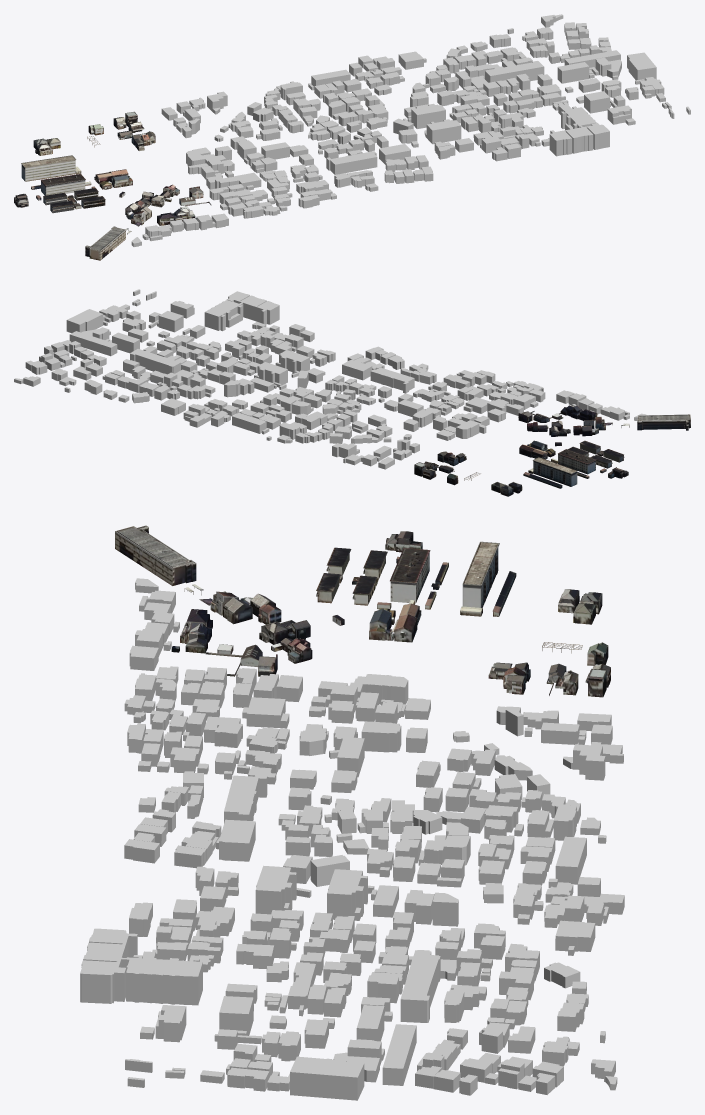
File: 2023-lod3-station-8-3-packed.glb
3 renders of one model, top to bottom at view 1: azimuth 30°, elevation 25°; view 2: azimuth 150°, elevation 25°; view 3: azimuth 270°, elevation 25°, orthographic. The views are drawn at different scales.
Size of the model in its own units: 614 by 18.48 by 254.
3 materials, 2 textured.
